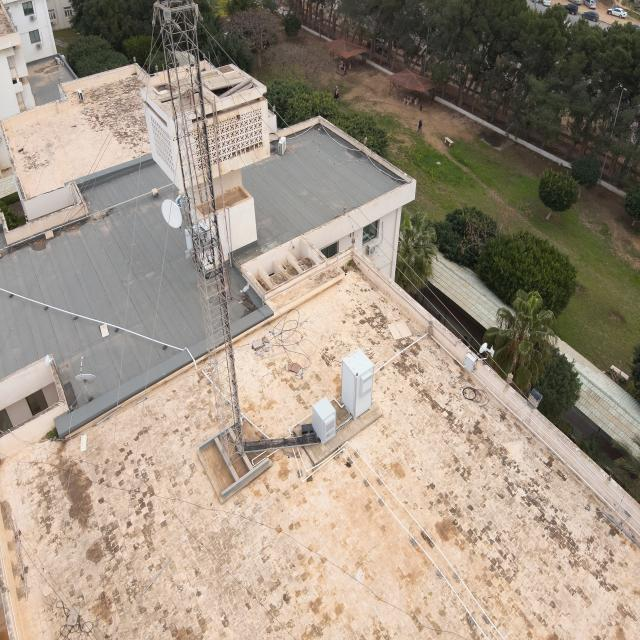microware-dish: (161, 192, 191, 230)
power-box: (184, 222, 212, 256)
